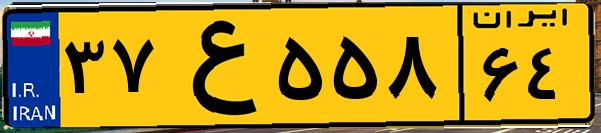3: (57, 26, 110, 100)
4: (525, 38, 570, 115)
5: (270, 28, 330, 110), (330, 28, 385, 110)
6: (475, 38, 525, 113)
7: (110, 28, 158, 98)
8: (385, 28, 445, 110)
ع: (158, 12, 270, 120)
